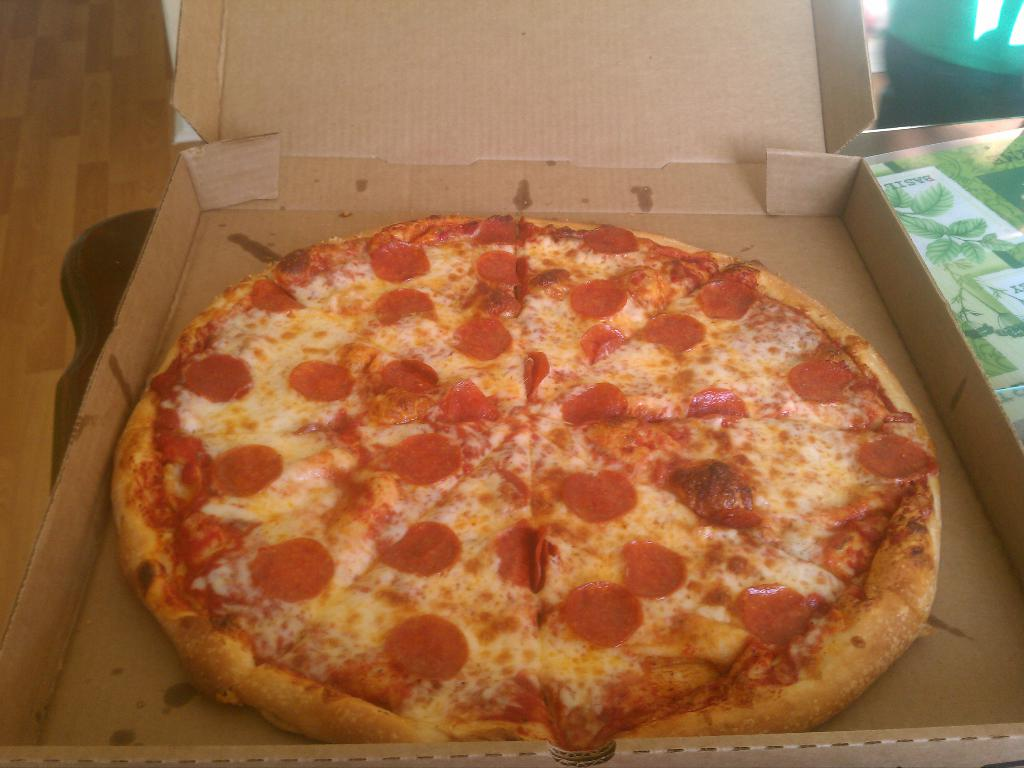Pizza: (108, 208, 942, 743)
